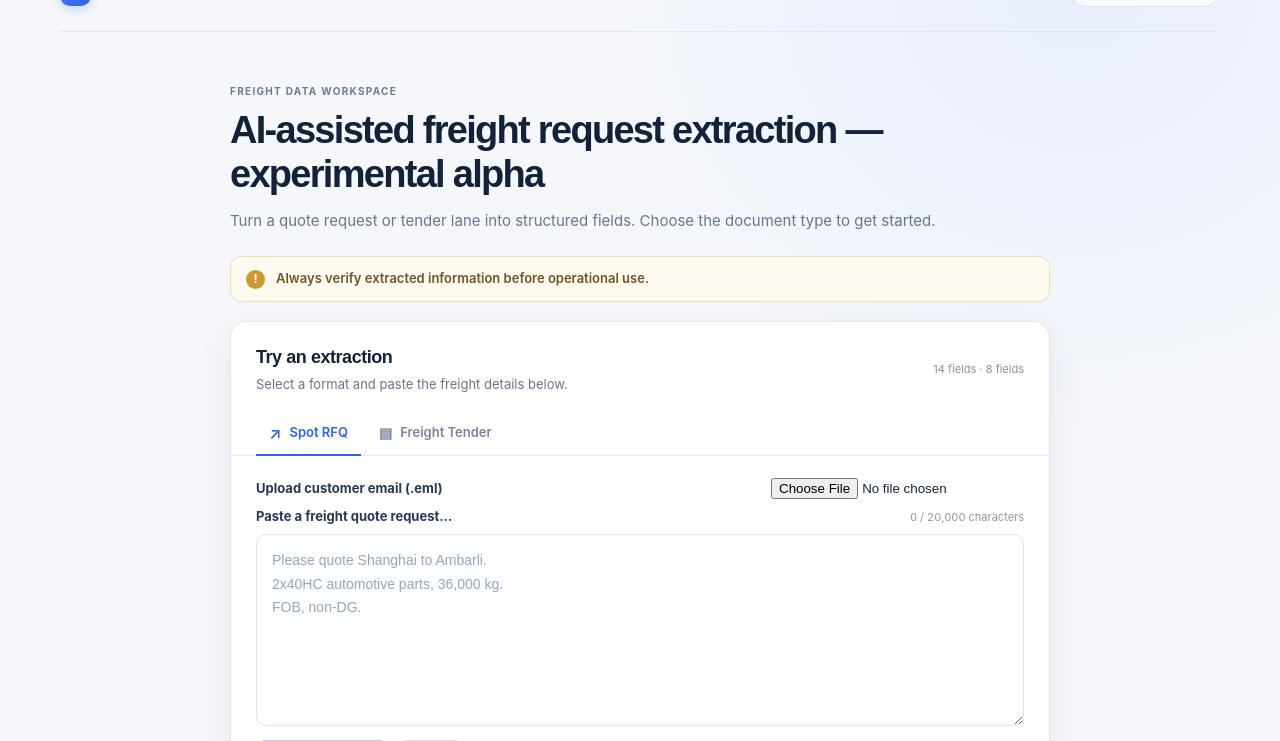
CargoAI public alpha page › renders every spot field and preserves boolean false as No
Replace the text in the text box with placeholder "Please quote Shanghai" with "Shanghai to Ambarli": (640, 630) [256,534,1024,726]
(page scrolled)
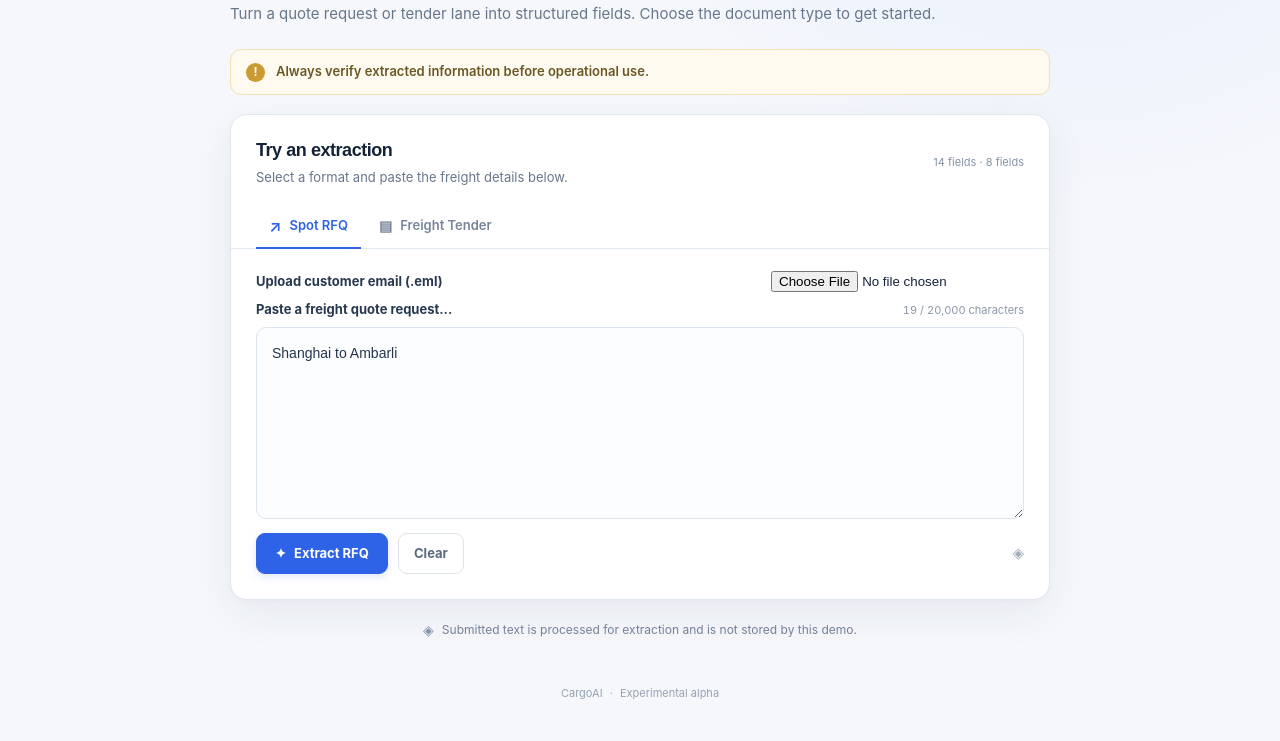
Click the button "✦ Extract RFQ": (322, 554) [256,533,388,574]
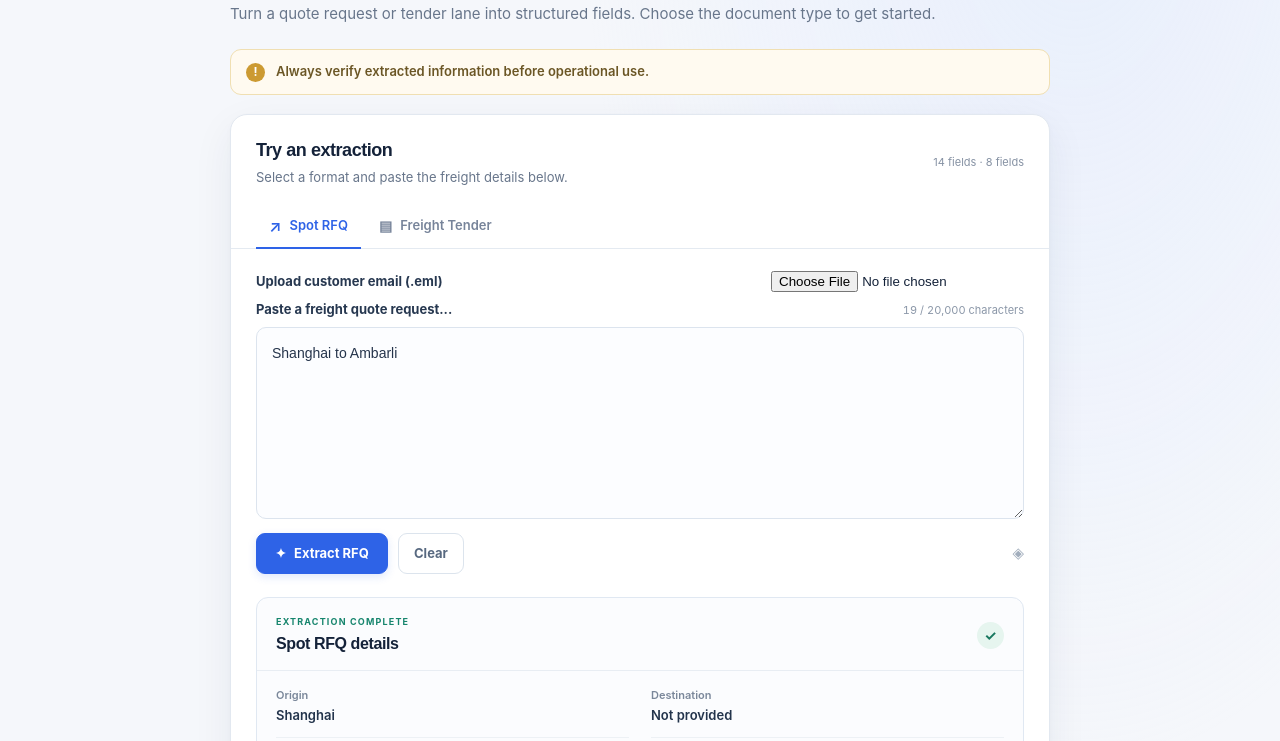
Expected: the text "Shanghai" is shown, [276,707,335,723]
Expected: the text "Origin" is shown, [276,688,308,702]
Expected: the text "Destination" is shown, [651,688,712,702]
